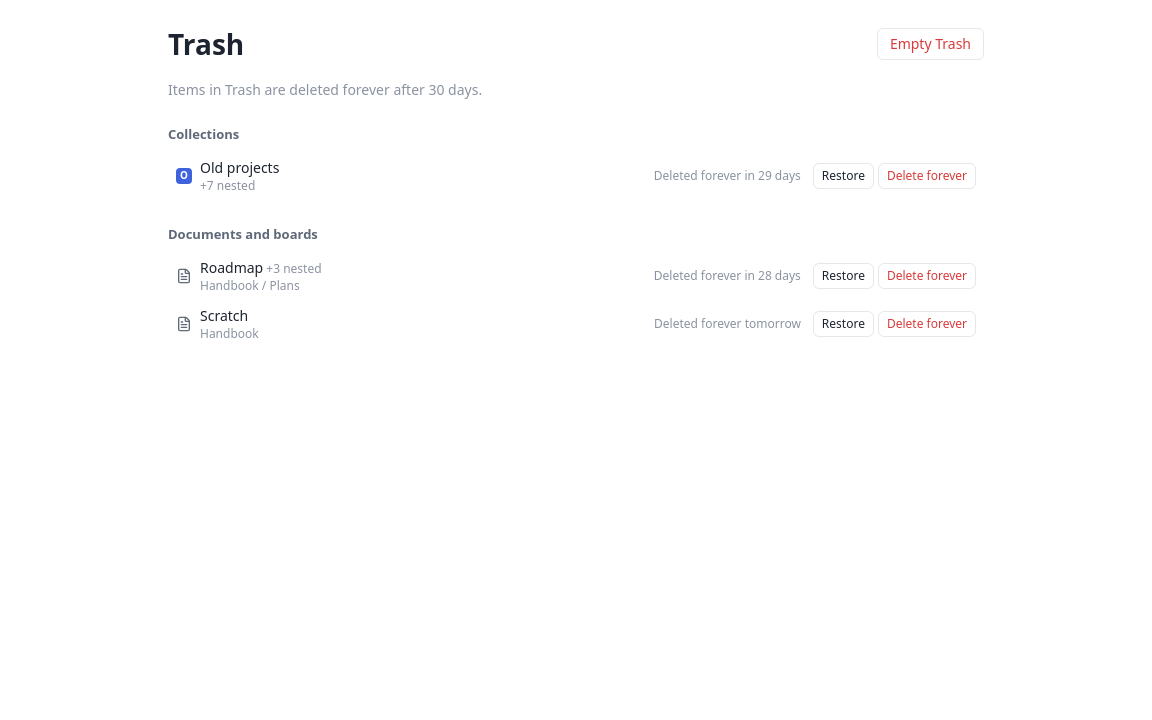
Test case: Trash › delete forever asks first, with the count of what goes
Step 1. Click the button "Delete forever" in the row of "Roadmap" → (927, 276), box 878,263 -> 976,289
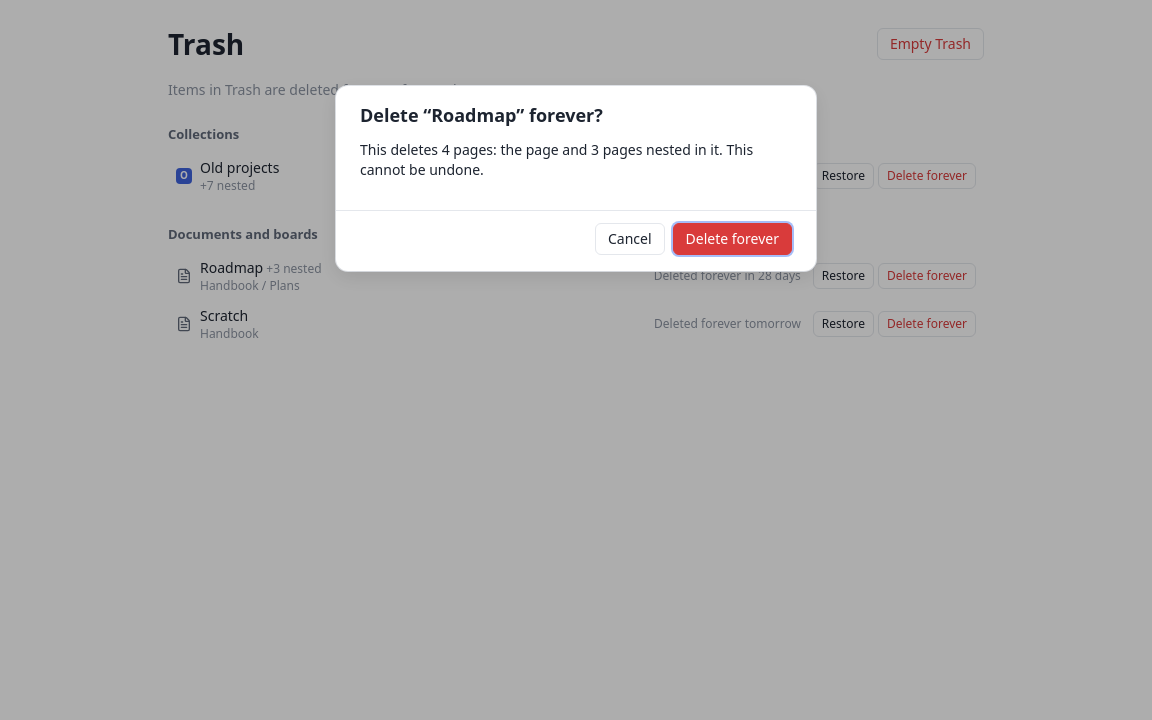
expect the dialog shows "Delete “Roadmap” forever?": met, box 360,103 -> 603,127
expect the dialog shows "This deletes 4 pages": met, box 360,140 -> 753,179
// Cancel: nothing is deleted.
Step 2. Click the button "Cancel" → (630, 239), box 595,223 -> 665,255
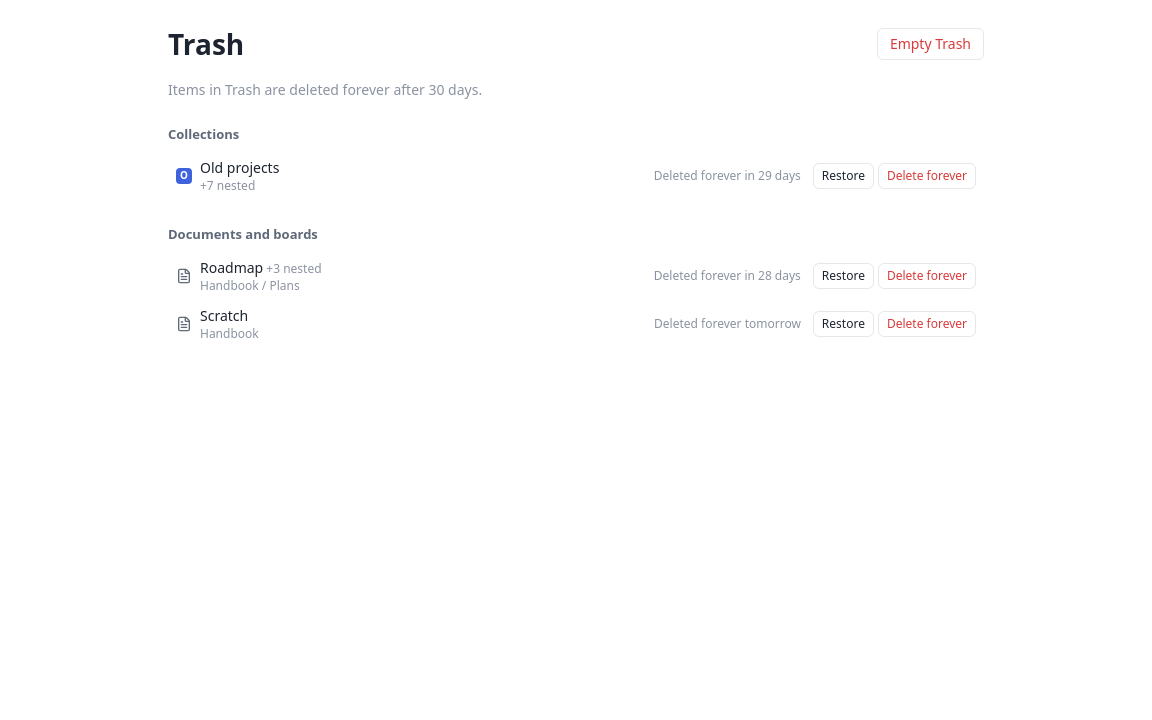
expect the dialog is gone: met
Step 3. Click the button "Delete forever" in the row of "Roadmap" → (927, 276), box 878,263 -> 976,289
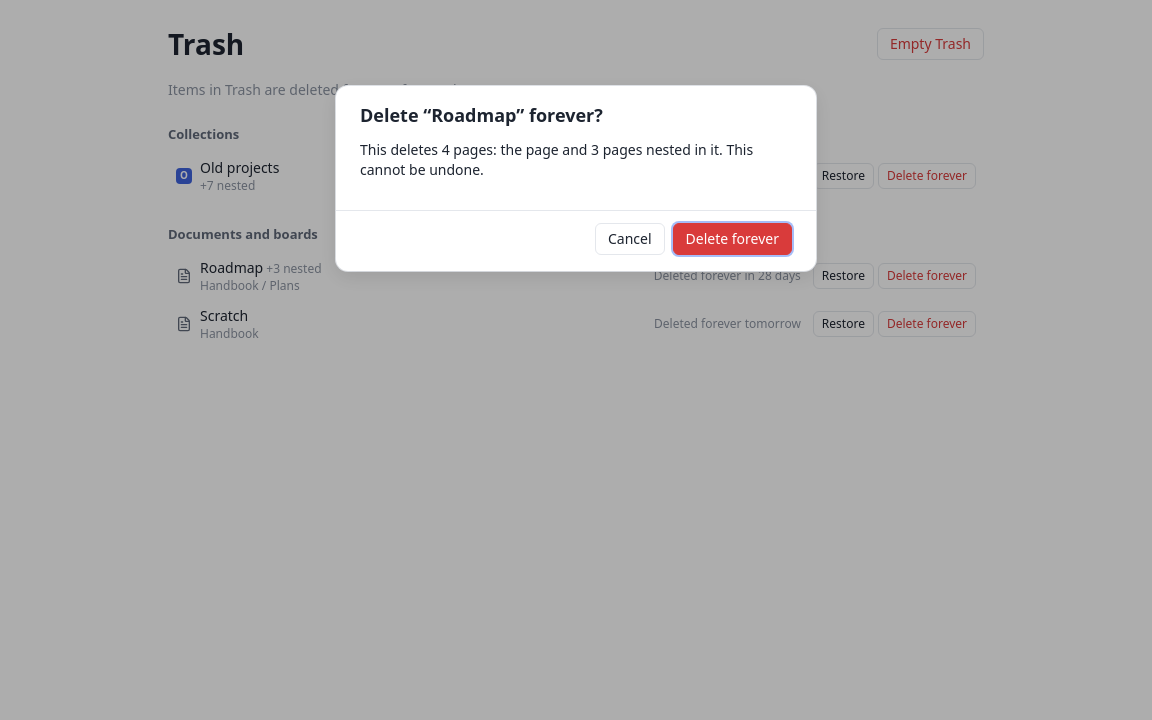
Step 4. Click the button "Delete forever" → (732, 239), box 673,223 -> 792,255
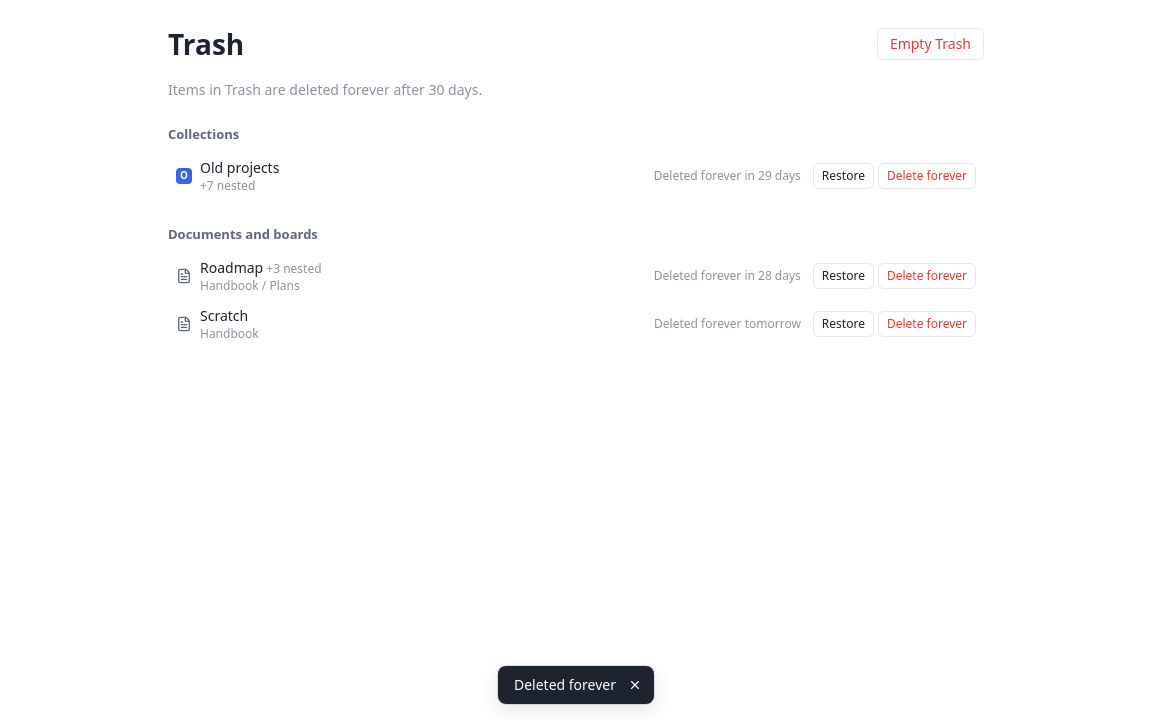
Step 5. Click the button "Delete forever" in the row of "Scratch" → (927, 324), box 878,311 -> 976,337
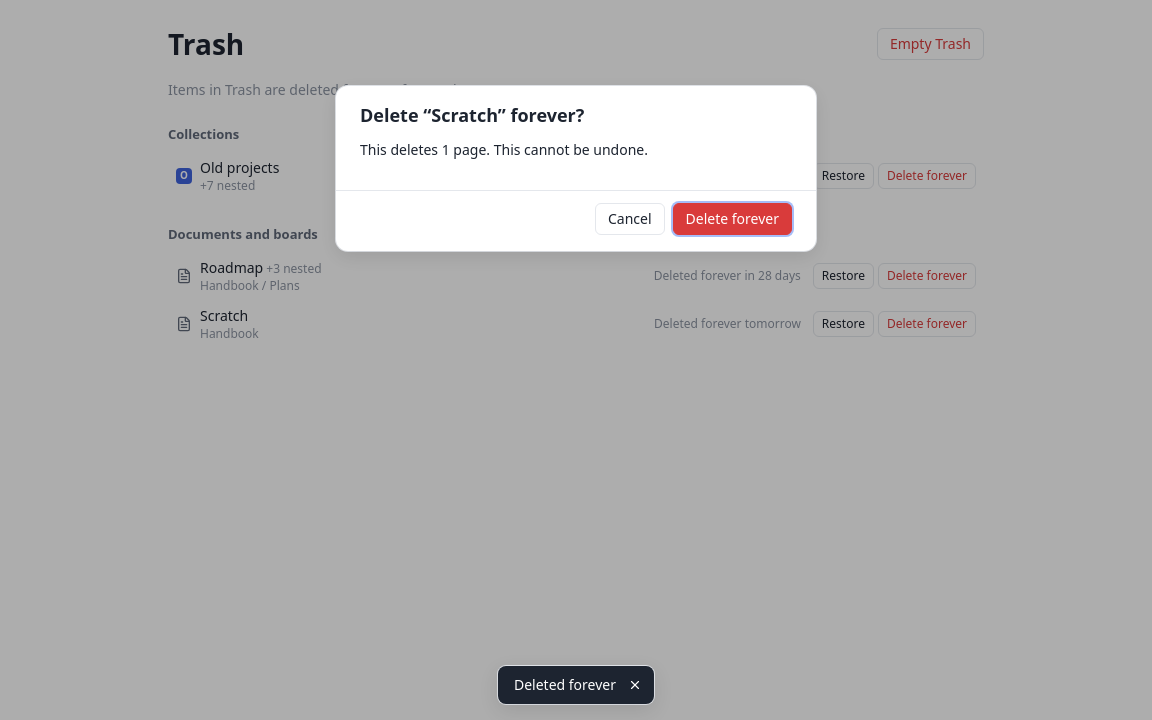
expect the dialog shows "This deletes 1 page.": met, box 360,140 -> 648,159
